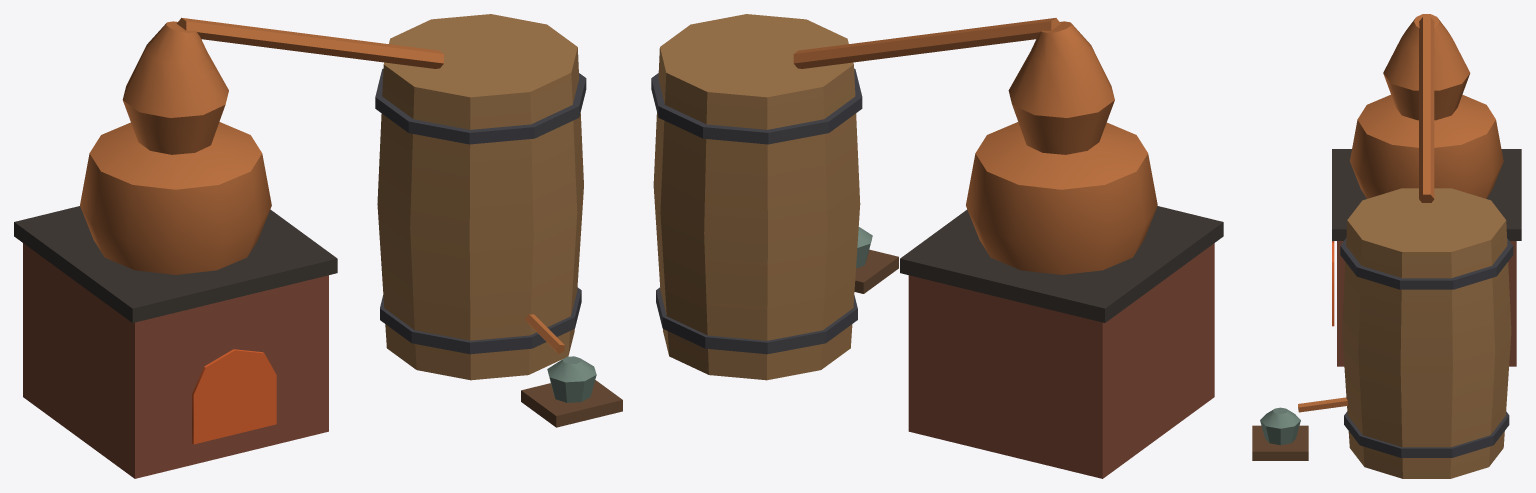
The model's file is Still.fbx.
3 views of the same model, side by side, from view 1: azimuth 30°, elevation 25°; view 2: azimuth 150°, elevation 25°; view 3: azimuth 270°, elevation 25° (orthographic). The views are drawn at different scales.
Parts seen in each view (by area): view 1: Still; view 2: Still; view 3: Still.
Boxes of the visible parts, box(x1,y1,x2,y2) form: Still: box(14, 14, 622, 478); Still: box(651, 14, 1223, 478); Still: box(1252, 14, 1521, 478).
Bounding box in the file's own units: 1.79 × 1.35 × 1.05.
